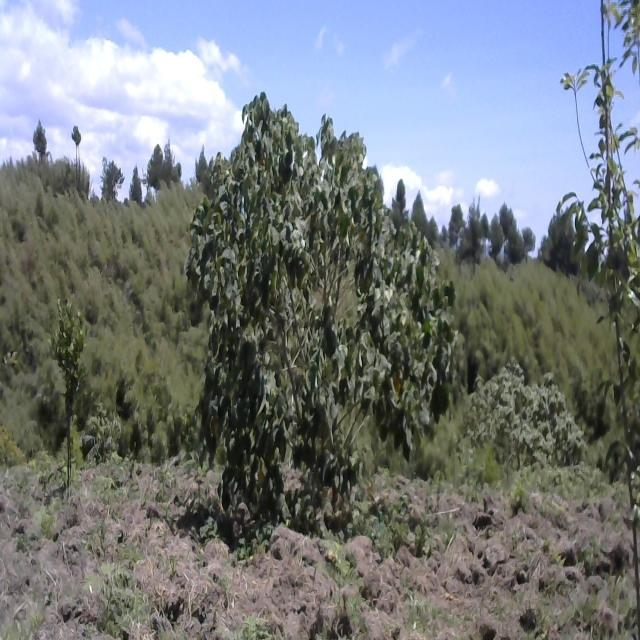cedrus: (542, 200, 582, 274), (96, 152, 122, 226), (65, 117, 89, 196), (466, 202, 486, 262), (388, 172, 409, 225), (146, 136, 162, 202), (30, 109, 47, 171), (506, 220, 528, 264), (161, 144, 181, 190), (191, 138, 209, 189), (486, 206, 501, 258), (412, 185, 428, 232), (130, 162, 142, 214)
other: (183, 69, 468, 578), (45, 289, 89, 486)
